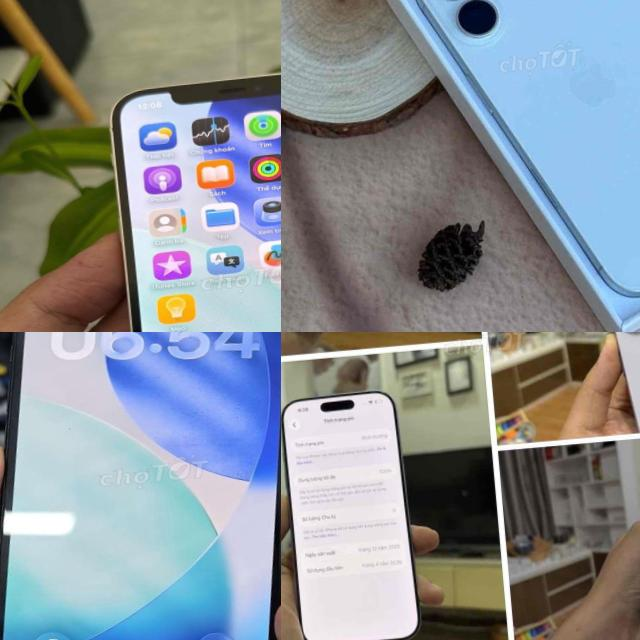gen_12_13: (104, 57, 281, 332)
gen_16: (0, 332, 281, 640)
gen_17: (396, 0, 640, 314)
